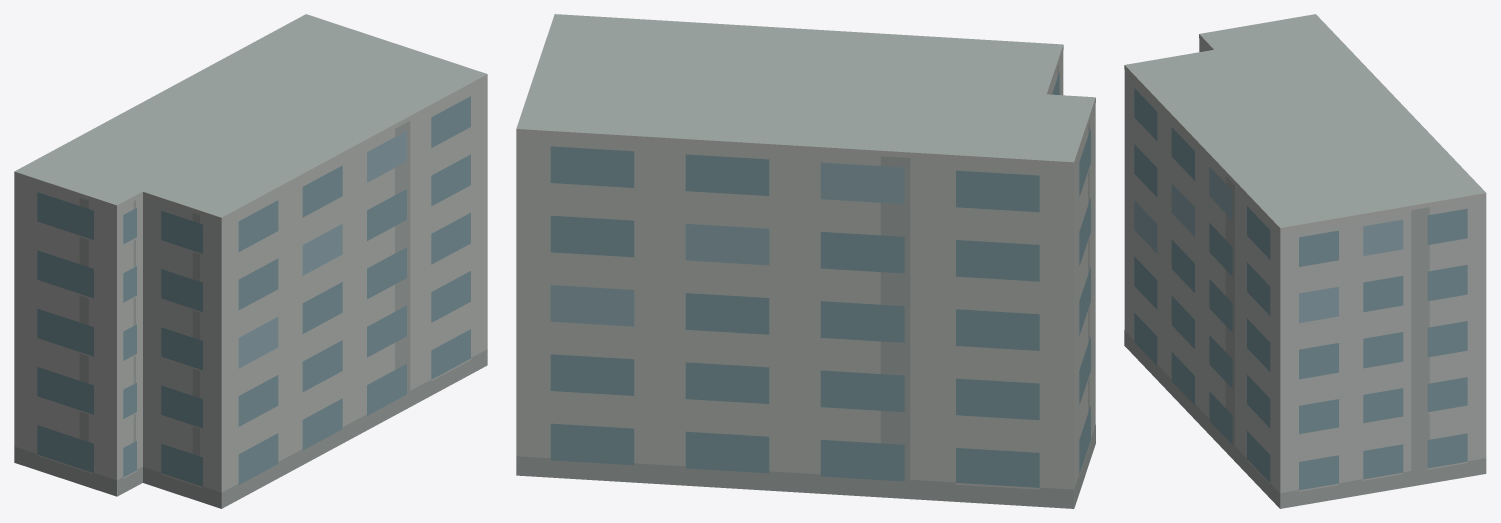
File: residential-b04c5d5d-445e-44e3-98c8-bcf9ecc6e4ef.glb
3 renders of one model, left to right at view 1: azimuth 30°, elevation 25°; view 2: azimuth 150°, elevation 25°; view 3: azimuth 270°, elevation 25°, orthographic. The views are drawn at different scales.
Parts seen in each view (by area): view 1: residential-b04c5d5d-445e-44e3-98c8-bcf9ecc6e4ef.tmp; view 2: residential-b04c5d5d-445e-44e3-98c8-bcf9ecc6e4ef.tmp; view 3: residential-b04c5d5d-445e-44e3-98c8-bcf9ecc6e4ef.tmp.
Boxes of the visible parts, <box> form: residential-b04c5d5d-445e-44e3-98c8-bcf9ecc6e4ef.tmp: <box>14,14,487,508</box>; residential-b04c5d5d-445e-44e3-98c8-bcf9ecc6e4ef.tmp: <box>516,14,1095,508</box>; residential-b04c5d5d-445e-44e3-98c8-bcf9ecc6e4ef.tmp: <box>1124,14,1486,508</box>.
Bounding box in the file's own units: 24.94 × 15.25 × 17.82.
